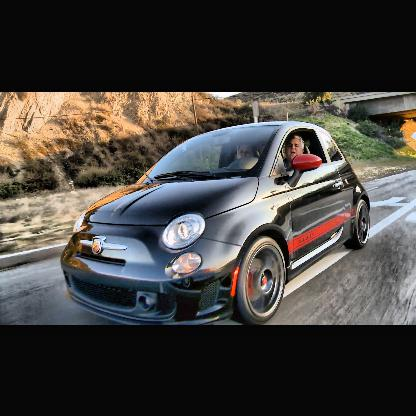FIAT 500 Abarth 2012: (61, 121, 373, 324)
